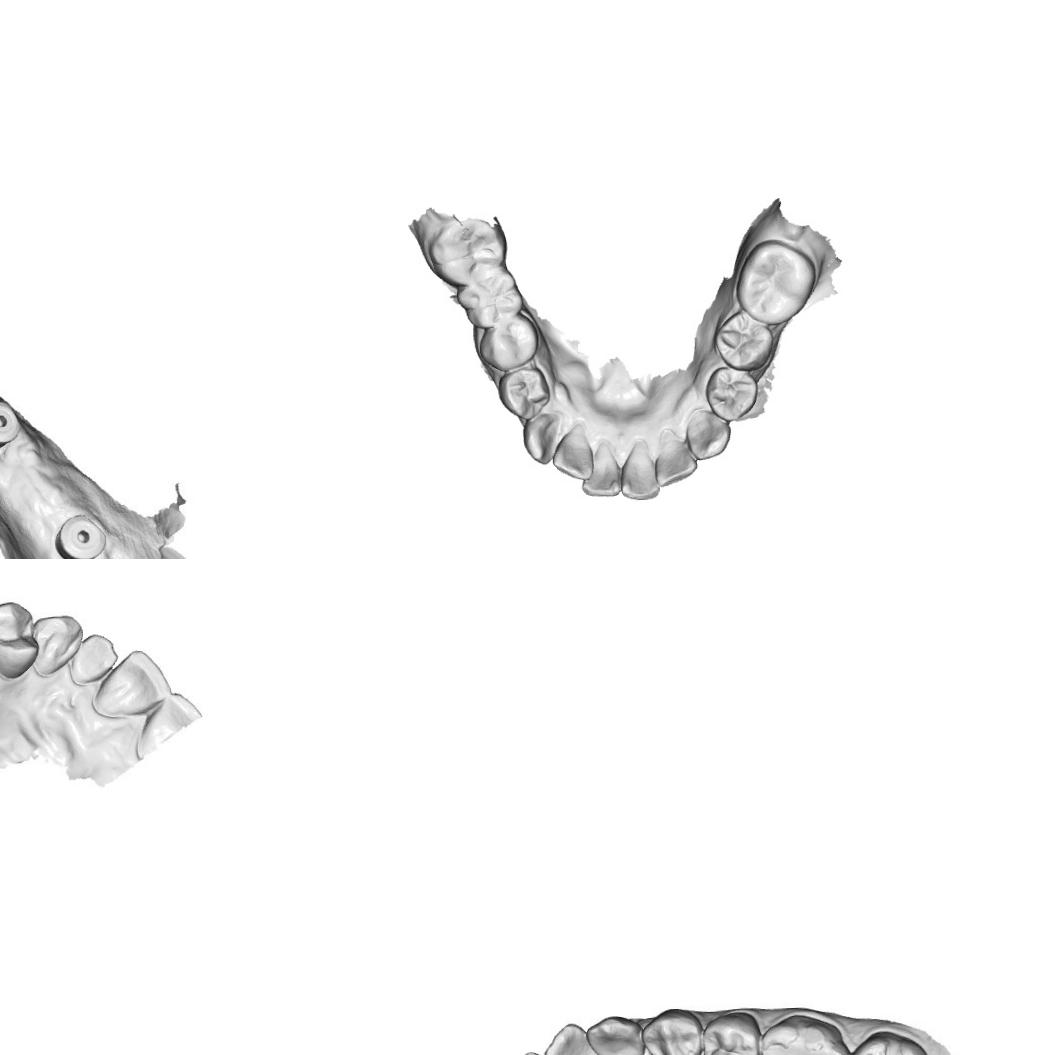canine: (35, 614, 81, 679), (587, 1012, 648, 1055), (685, 407, 732, 460), (522, 411, 564, 466)
implant: (47, 501, 125, 559), (0, 392, 30, 459)
incisor: (94, 649, 165, 716), (653, 426, 698, 488), (579, 438, 624, 498), (70, 635, 116, 693), (618, 438, 660, 500), (550, 426, 596, 482), (540, 1017, 600, 1055)
molar: (734, 238, 820, 326), (426, 212, 516, 290), (456, 262, 524, 328), (759, 1013, 849, 1055), (847, 1027, 932, 1055)
premolar: (712, 310, 774, 372), (476, 312, 542, 370), (704, 365, 760, 424), (640, 1007, 706, 1055), (494, 367, 552, 420), (703, 1007, 764, 1055), (0, 600, 36, 679)
